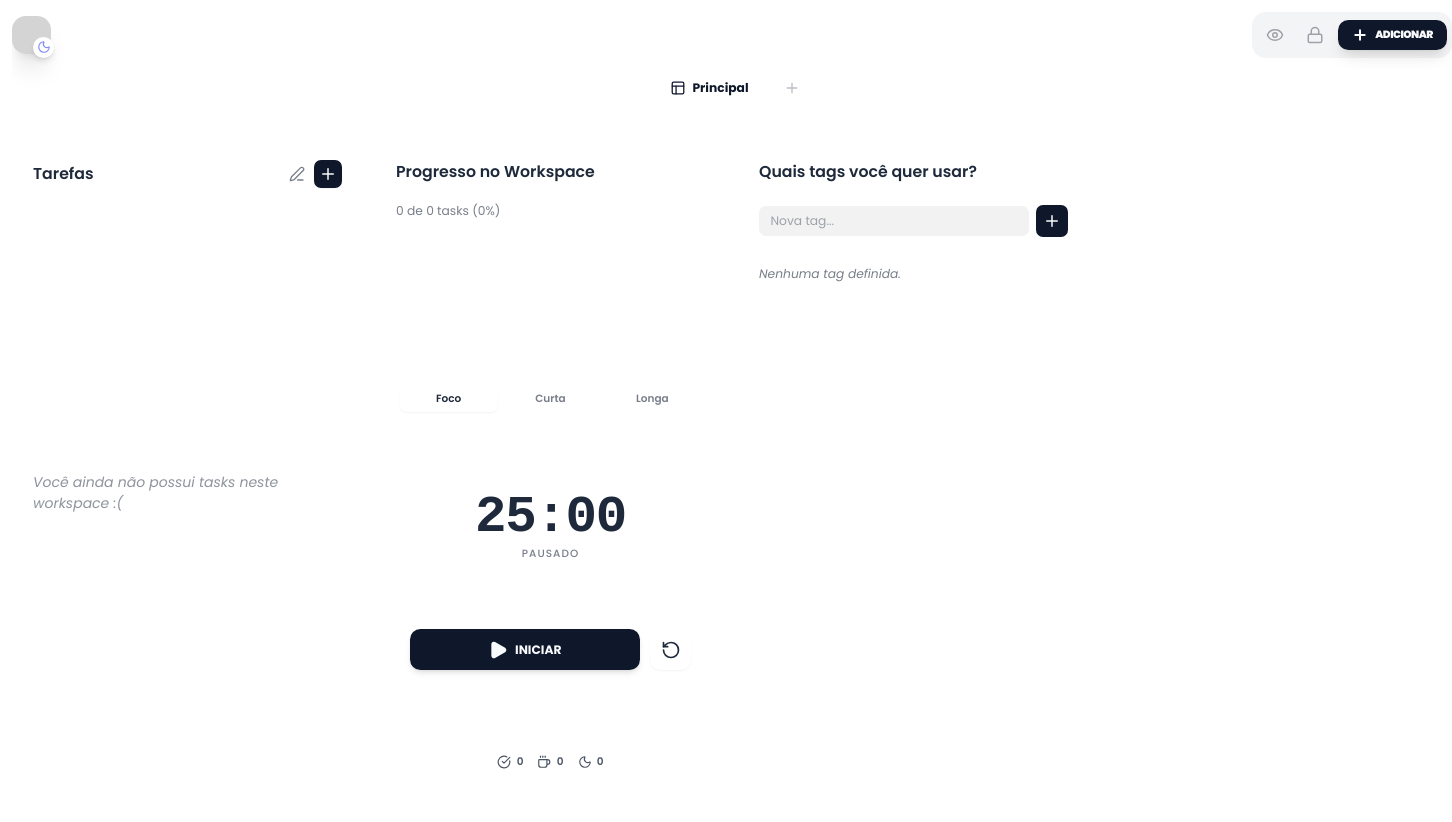
Test: DashboardPage › no modo de edição aparece o botão de remover do widget
Click the button titled "Editar Layout": (1315, 35) [1298,17,1333,53]
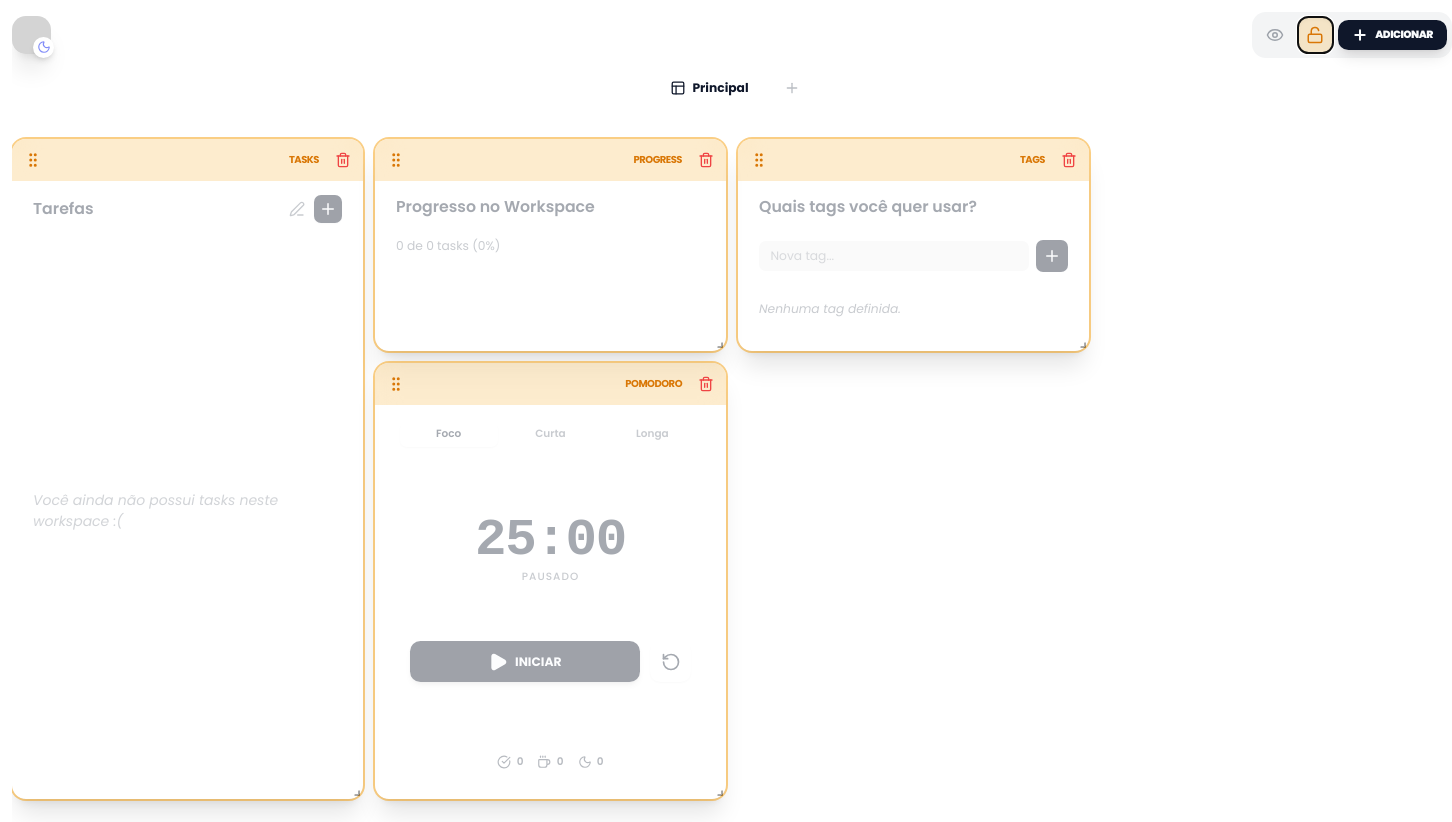
Expected: the 1st button titled "Remover Widget" is shown, [330,146,356,173]
